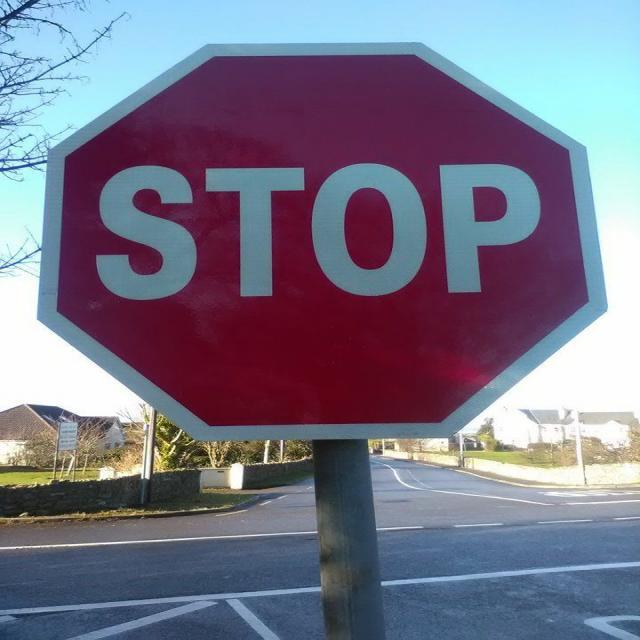stop: (35, 40, 609, 442)
